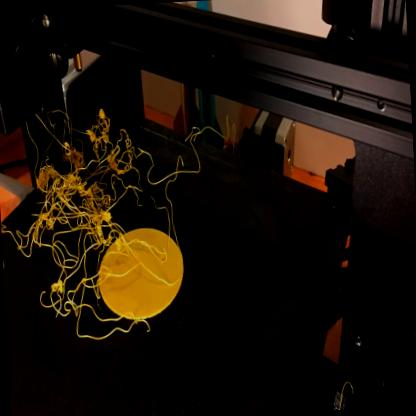fail: (1, 82, 162, 361)
